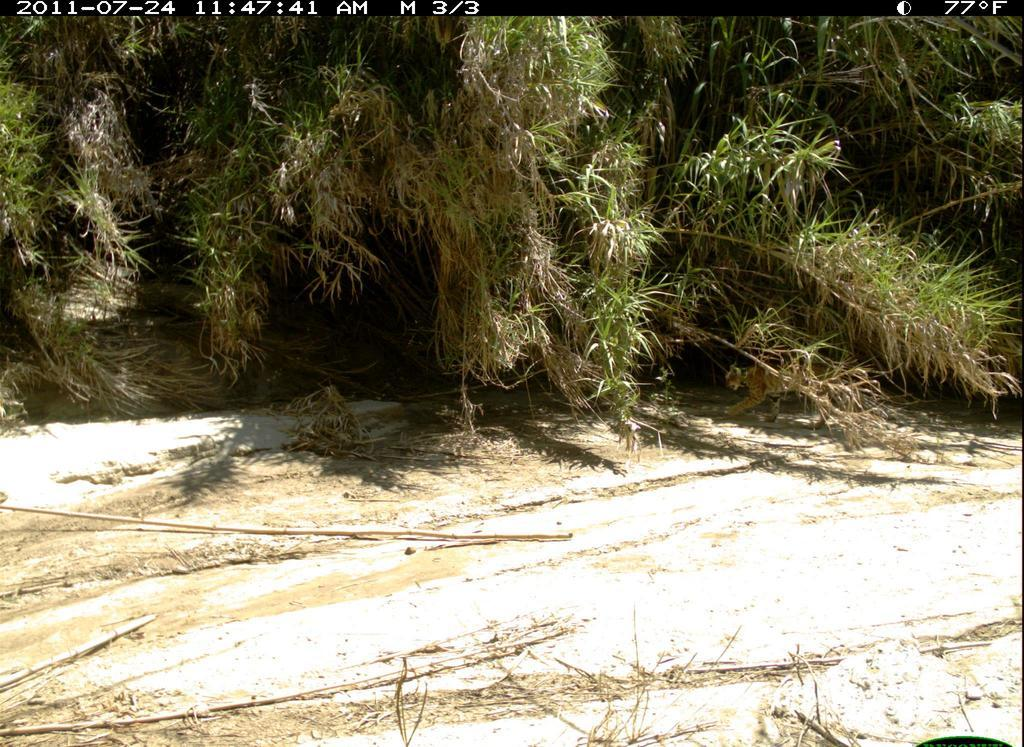bobcat: (717, 356, 862, 437)
